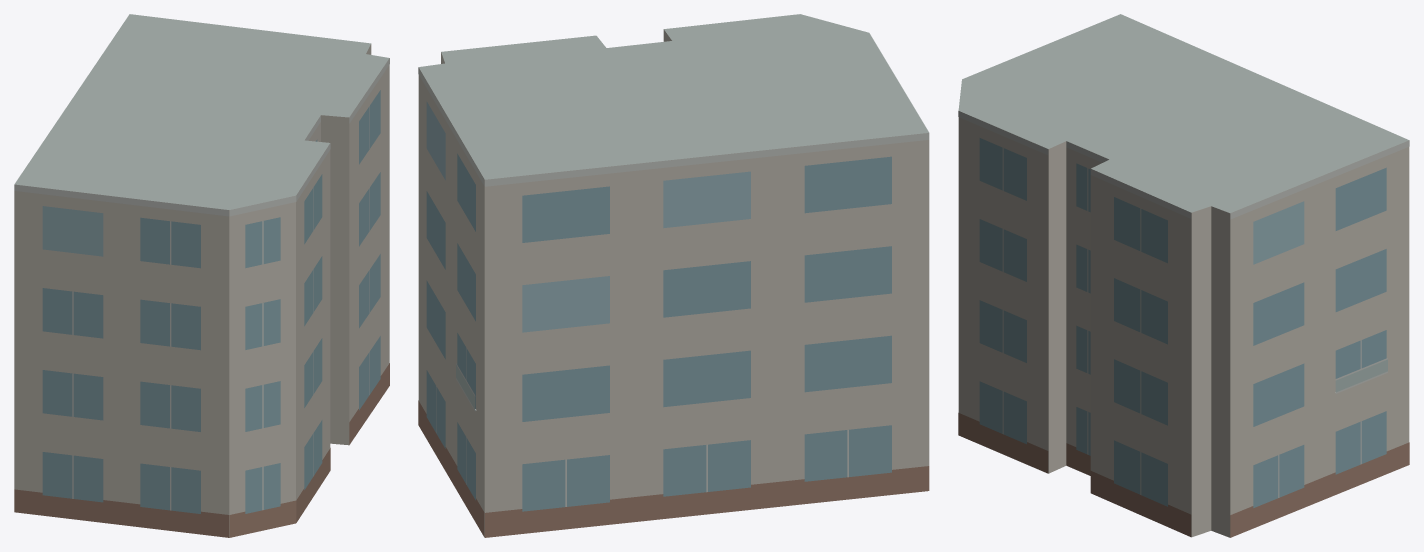
Rendered from survey-upis-32742482.glb.
The picture shows the model from 3 angles, left to right: view 1: azimuth 30°, elevation 25°; view 2: azimuth 150°, elevation 25°; view 3: azimuth 270°, elevation 25°; orthographic projection. The views are drawn at different scales.
Visible parts, largest first — view 1: survey-upis-32742482.tmp; view 2: survey-upis-32742482.tmp; view 3: survey-upis-32742482.tmp.
Part boxes in pixels (x1,y1,x2,y2): survey-upis-32742482.tmp: [14, 14, 389, 537]; survey-upis-32742482.tmp: [418, 14, 929, 537]; survey-upis-32742482.tmp: [958, 14, 1409, 537].
Size of the model in its own units: 16.47 by 12.5 by 15.75.
